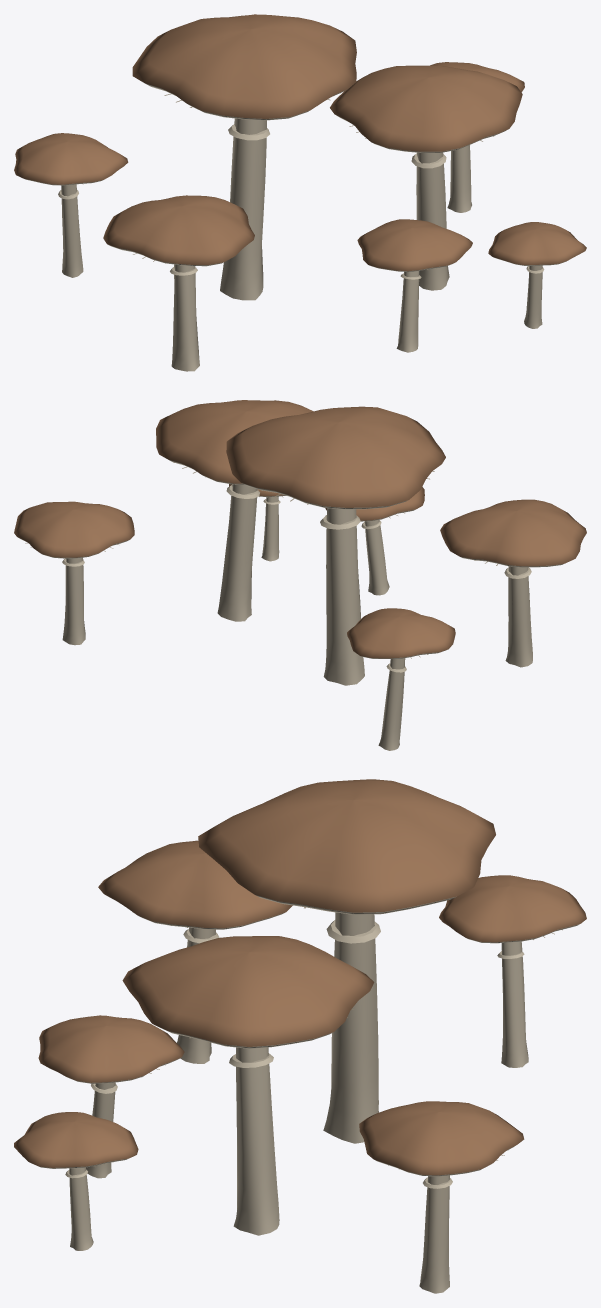
The model's file is mushroom_cluster.glb.
The picture shows the model from 3 angles, top to bottom: view 1: azimuth 30°, elevation 25°; view 2: azimuth 150°, elevation 25°; view 3: azimuth 270°, elevation 25°; orthographic projection. The views are drawn at different scales.
Visible parts, largest first — view 1: mushroom_cluster_mesh; view 2: mushroom_cluster_mesh; view 3: mushroom_cluster_mesh.
Boxes of the visible parts, x1,y1,x2,y2 form: mushroom_cluster_mesh: (14, 14, 586, 371); mushroom_cluster_mesh: (14, 400, 586, 750); mushroom_cluster_mesh: (14, 779, 586, 1293).
Size of the model in its own units: 0.4571 by 0.2311 by 0.357.
